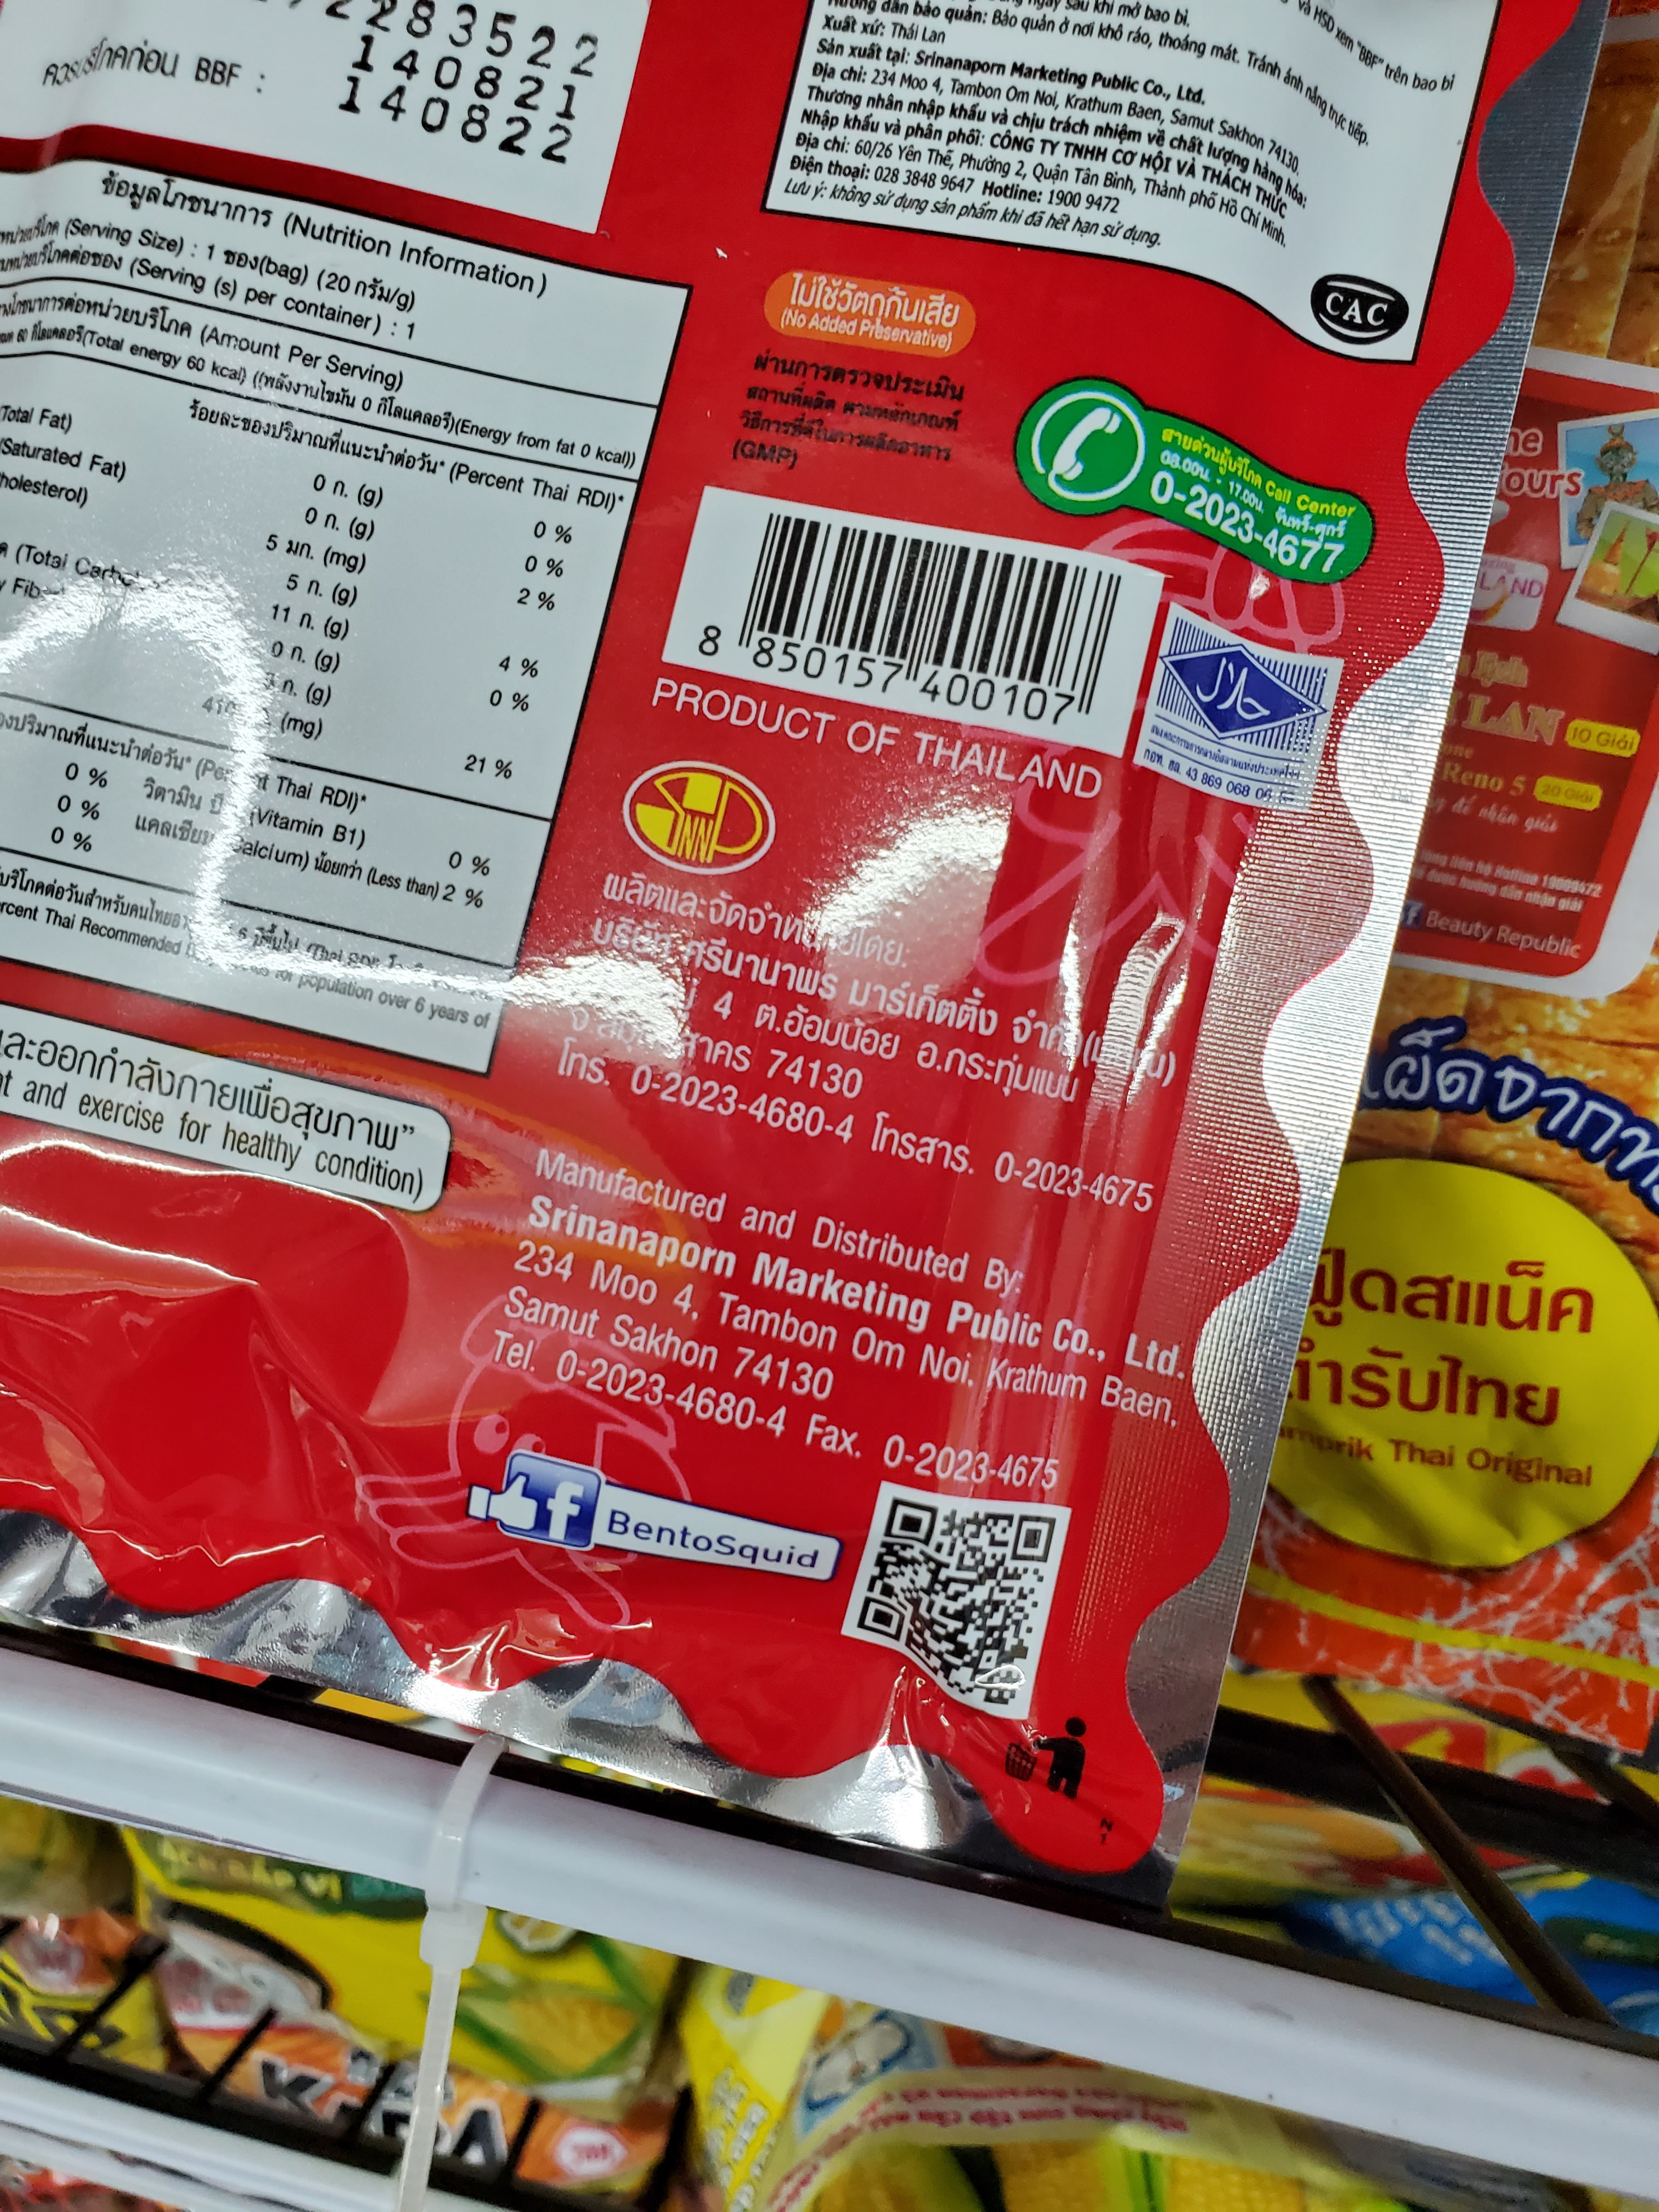barcode: (676, 507, 1150, 749)
